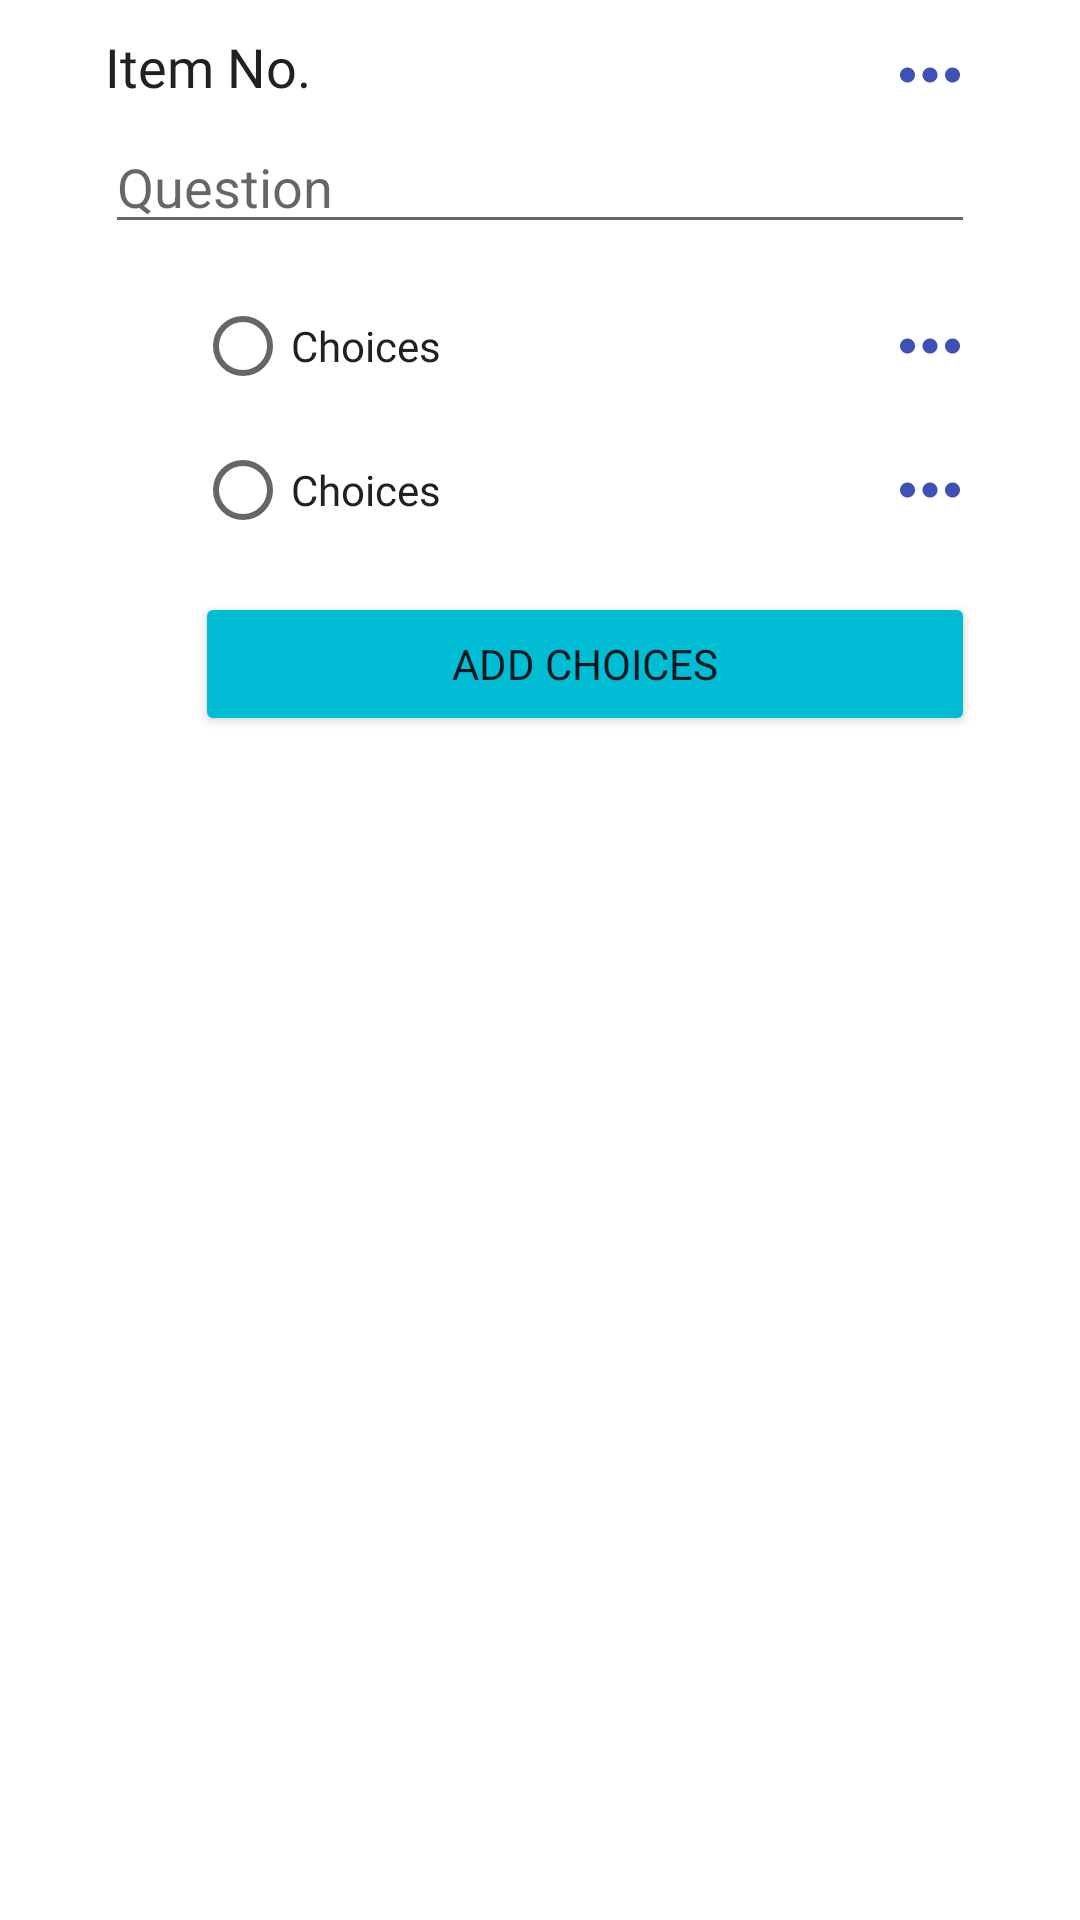

Screen size 1080w x 1920h. Icon name, then its center in pixels as (x,y):
more horiz: (930,75)
